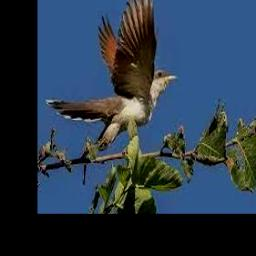Cuckoo: (46, 0, 179, 148)
